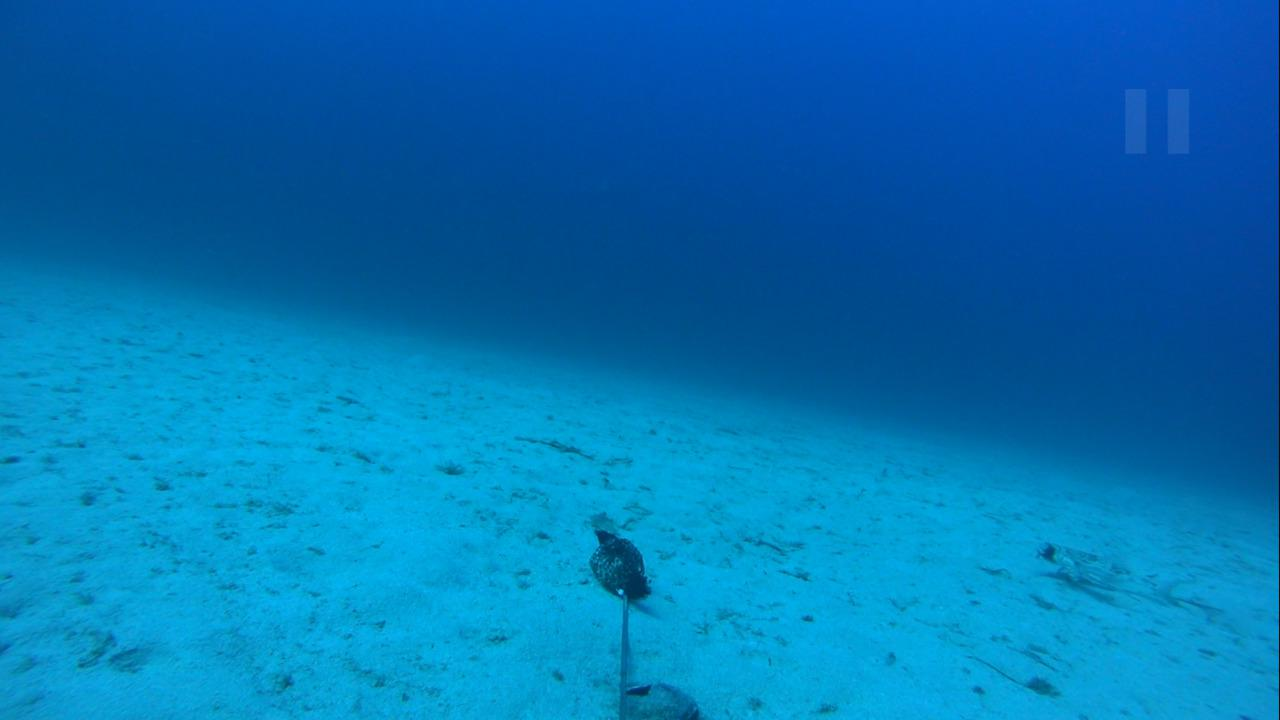dactylopterus: (1031, 538, 1220, 624)
